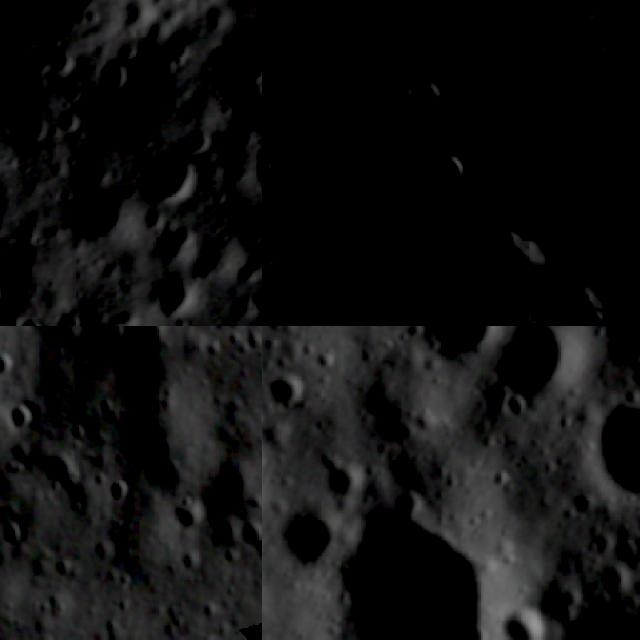crater: (295, 483, 522, 640), (577, 379, 640, 507), (484, 326, 586, 403), (134, 122, 218, 205), (271, 498, 346, 574), (471, 226, 543, 302), (198, 20, 262, 93), (403, 326, 514, 365), (598, 208, 640, 293), (132, 274, 204, 321), (483, 596, 559, 640), (548, 280, 612, 326), (319, 452, 370, 503), (433, 146, 480, 200), (404, 79, 458, 126), (262, 363, 313, 412), (614, 482, 640, 569), (300, 59, 338, 113), (490, 380, 533, 427), (169, 487, 209, 531), (530, 80, 574, 118), (327, 286, 366, 326), (94, 47, 130, 90), (0, 511, 32, 554), (6, 396, 39, 437), (234, 509, 262, 557), (101, 473, 133, 511), (564, 8, 600, 40), (616, 59, 640, 106), (578, 44, 609, 78), (580, 81, 610, 112), (0, 343, 18, 383)
